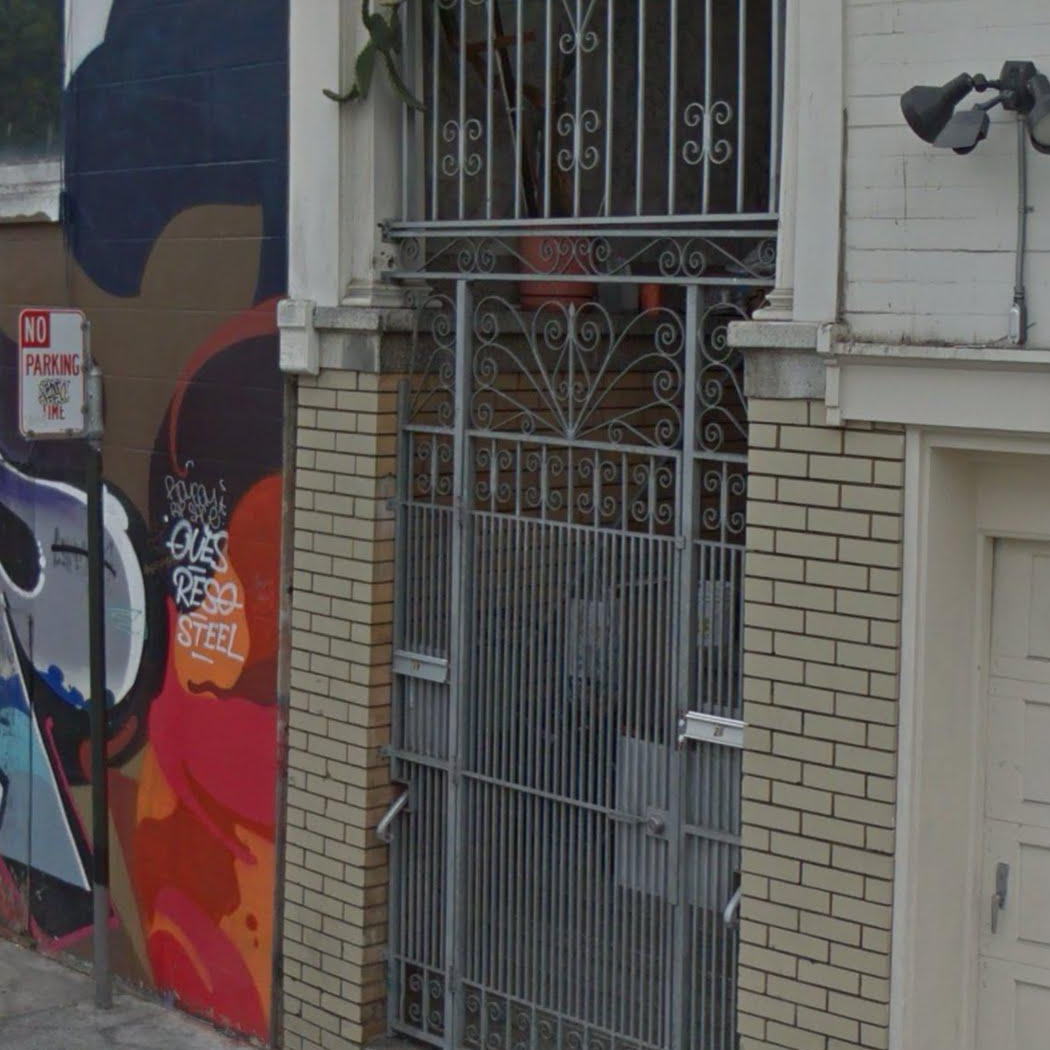No Parking Anytime: (16, 307, 88, 439)
